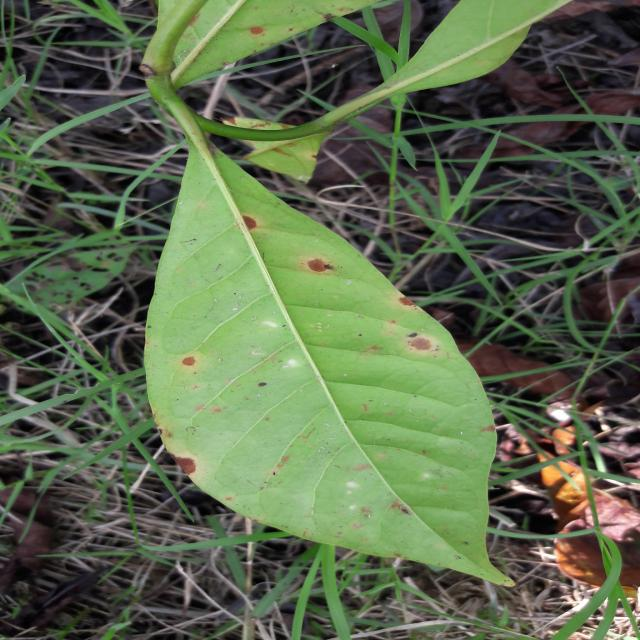Enfermedad-Roya: (143, 76, 512, 588)
